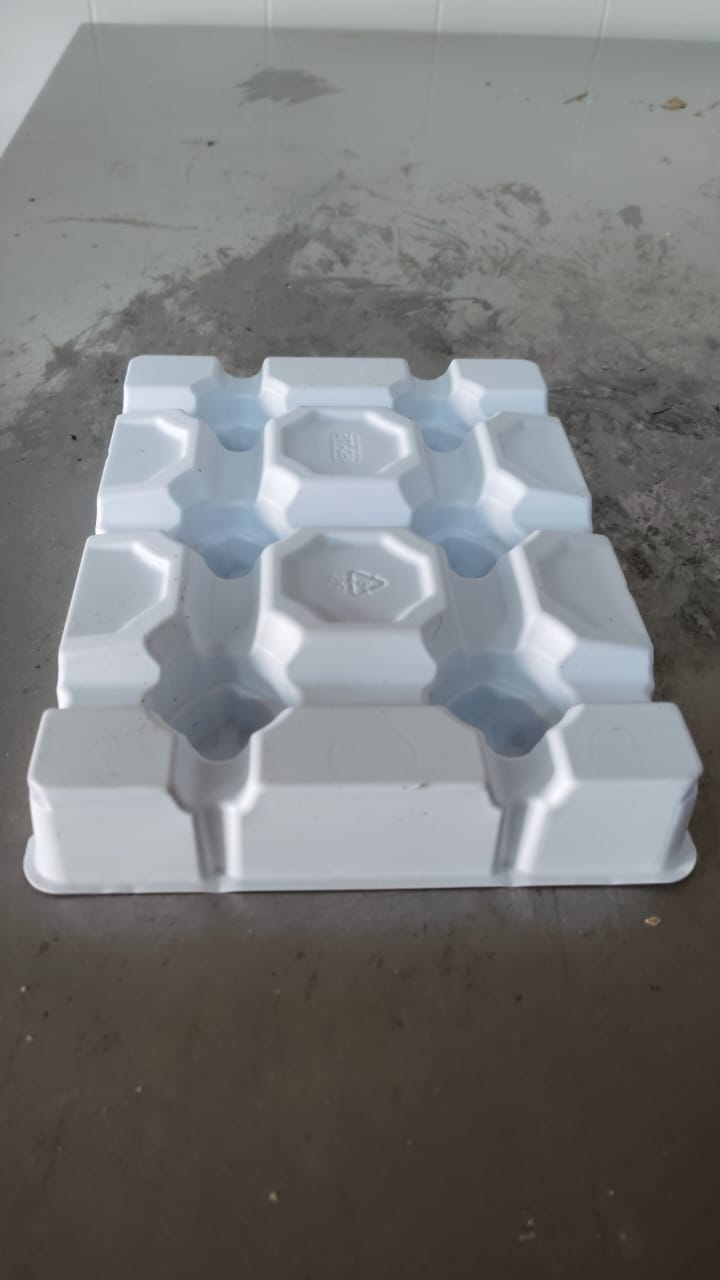Ordinario: (21, 352, 705, 894)
